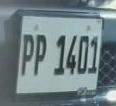0: (77, 31, 91, 78), (86, 33, 98, 75)
1: (52, 31, 67, 79)
4: (65, 27, 79, 82)
P: (33, 28, 50, 84), (20, 28, 36, 84)
